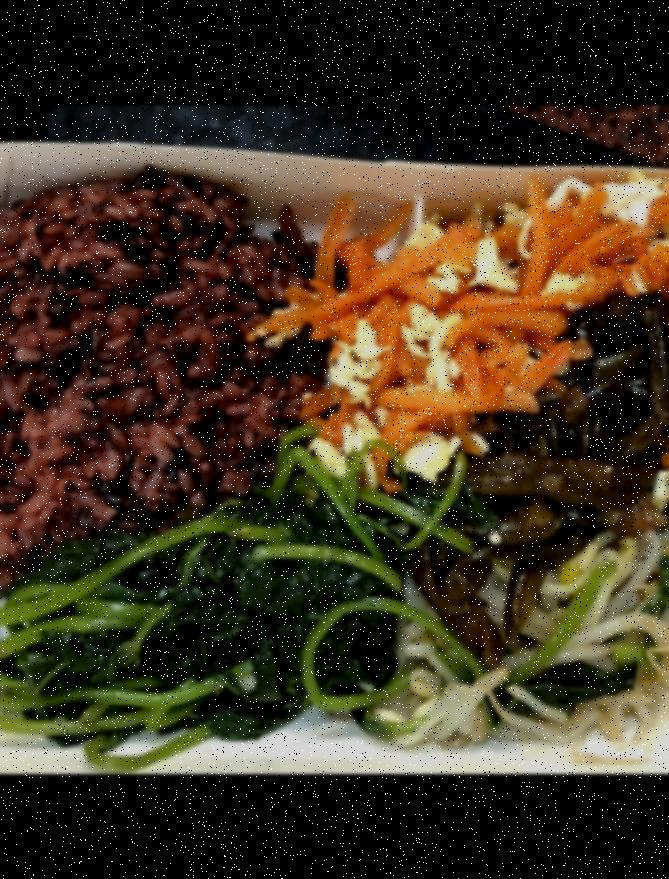big grilled chicken leg: (0, 131, 669, 765)
braised fish: (0, 169, 337, 569)
braised fish fillet: (301, 163, 669, 472), (0, 496, 403, 746), (413, 315, 669, 616), (384, 543, 669, 747)
